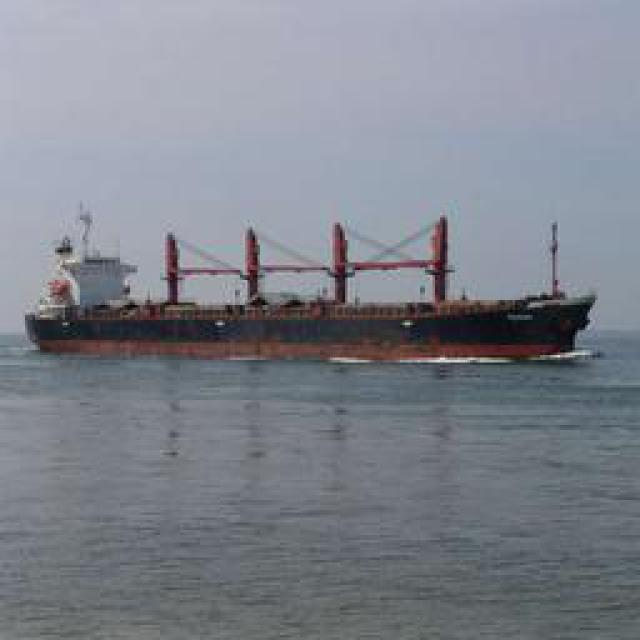Ship: (21, 207, 606, 365)
